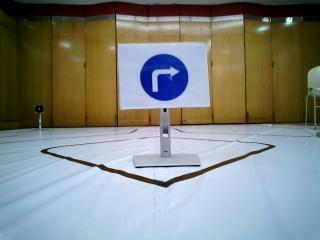right: (124, 49, 204, 106)
